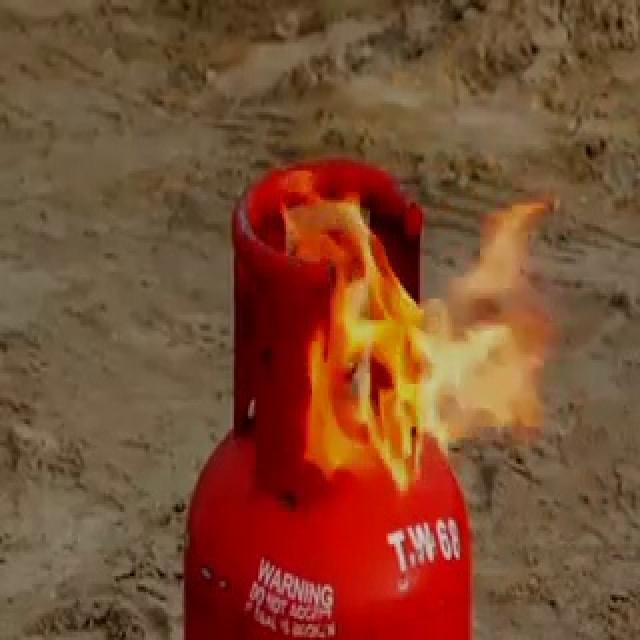Fire: (261, 168, 580, 461)
